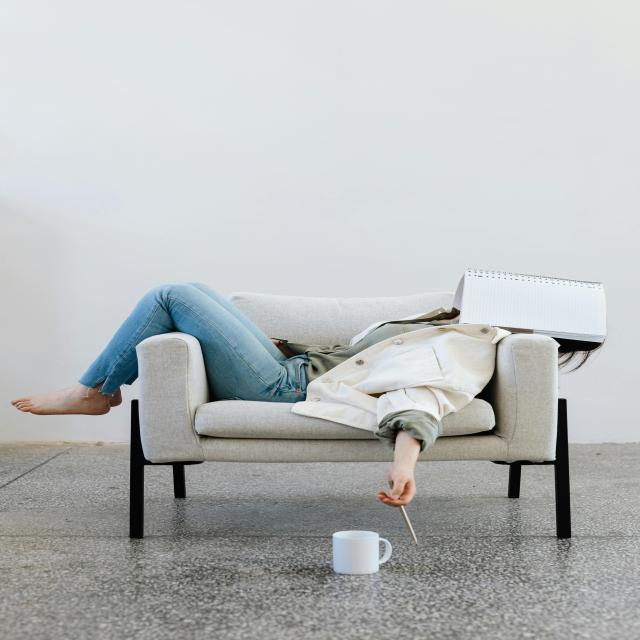lie: (2, 274, 613, 458)
